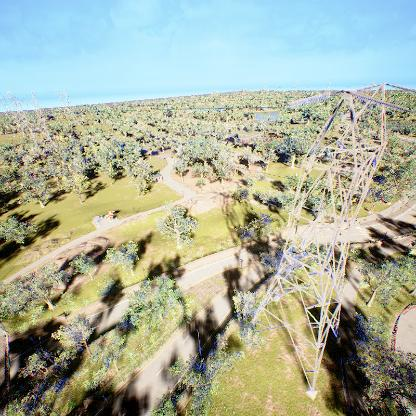tower: (239, 82, 416, 400)
